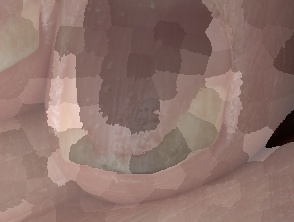Nail_psoriasis: (53, 0, 272, 195), (0, 0, 48, 90)
